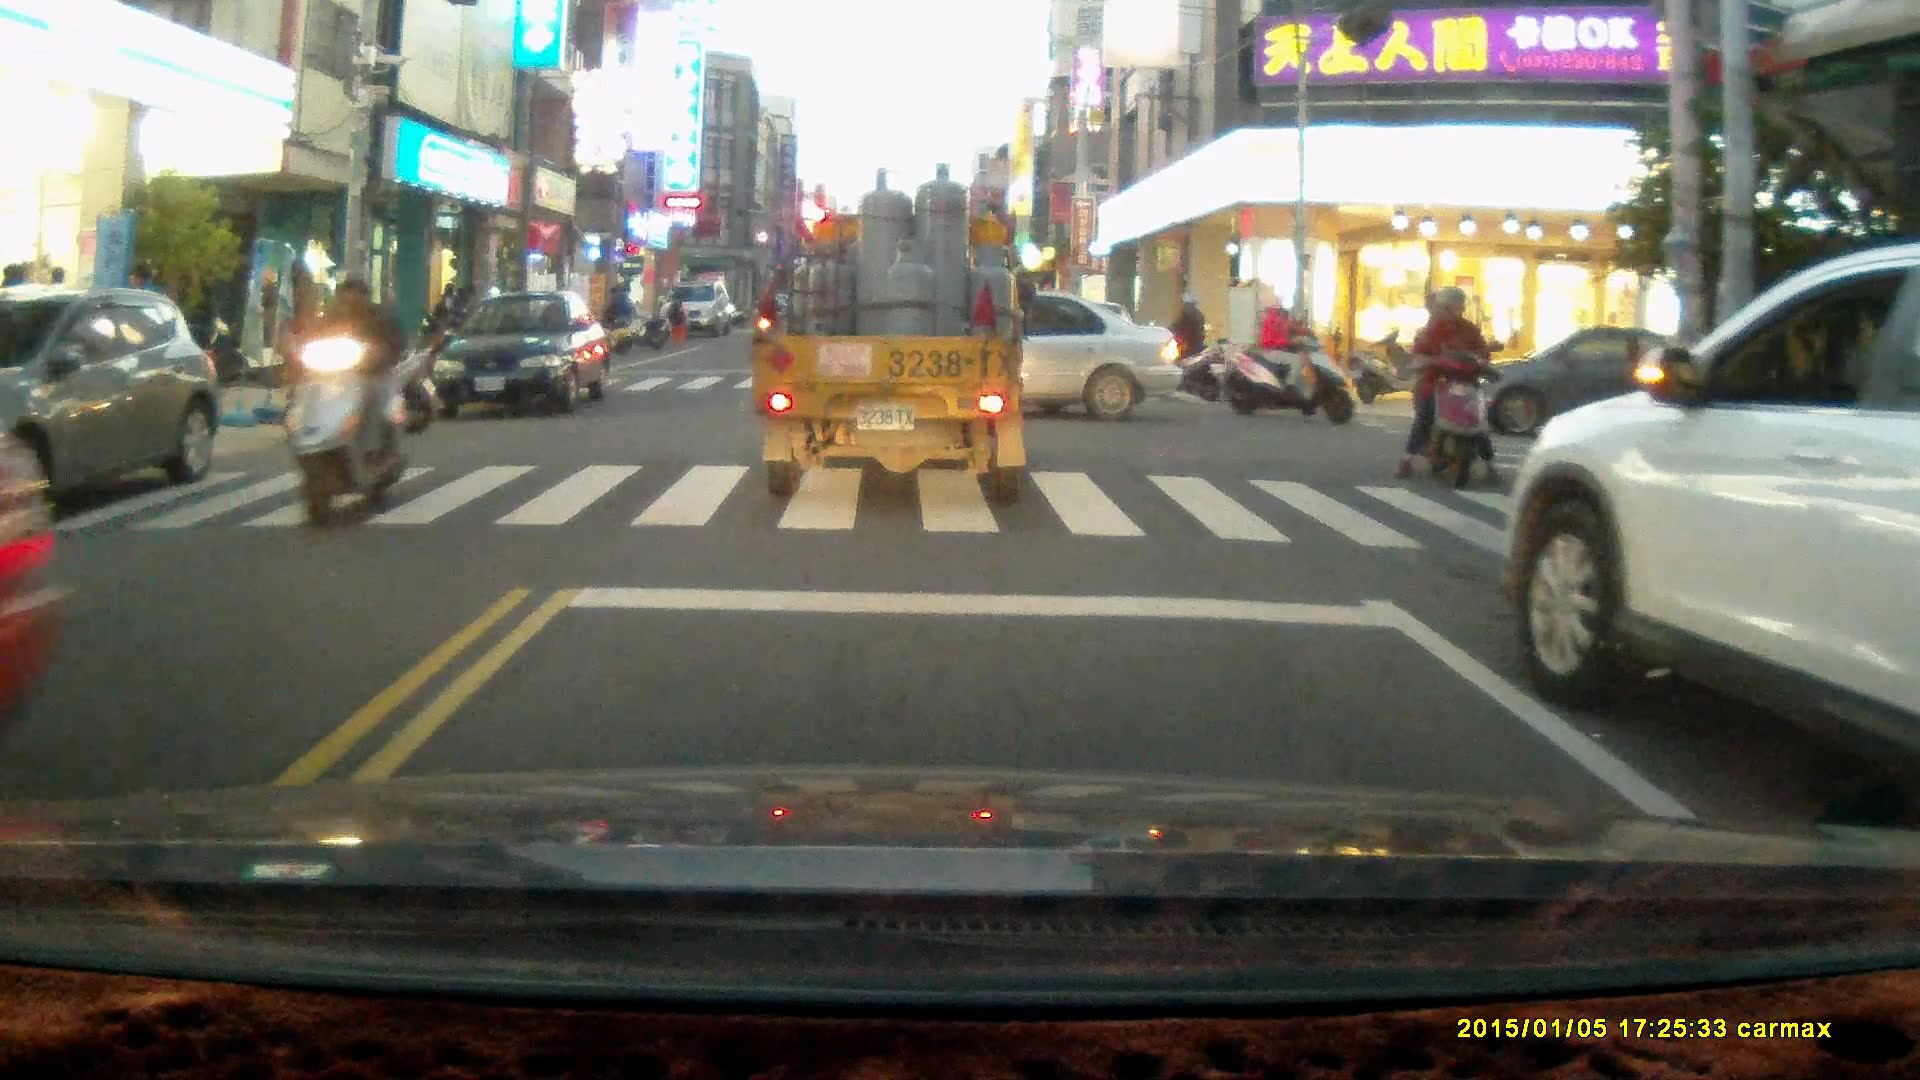pedestrian: (608, 280, 635, 343), (666, 289, 688, 346)
rider: (283, 263, 409, 526), (1394, 285, 1511, 495), (1222, 292, 1357, 424), (1128, 287, 1223, 402)
vehicle: (1505, 243, 1920, 815), (757, 172, 1030, 518), (790, 289, 1183, 422), (1456, 324, 1720, 438), (434, 293, 613, 416), (660, 282, 731, 336)
